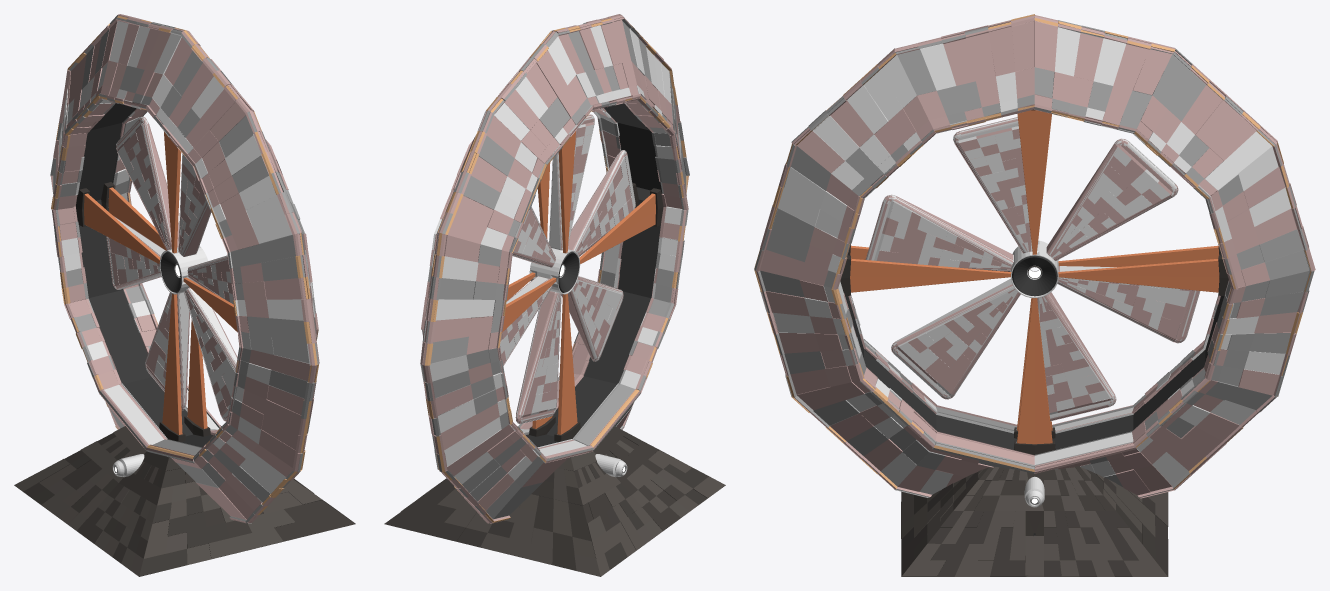
The model's file is WindMonument_old_240606 1.fbx.
3 views of the same model, side by side, from view 1: azimuth 30°, elevation 25°; view 2: azimuth 150°, elevation 25°; view 3: azimuth 270°, elevation 25° (orthographic). The views are drawn at different scales.
Visible parts, largest first — view 1: WindMonument_Frame, WindMonument_Base, WindMonument_Wheels, WindMonument_Socket, Train-Track; view 2: WindMonument_Frame, WindMonument_Base, WindMonument_Wheels, WindMonument_Socket, Train-Track; view 3: WindMonument_Frame, WindMonument_Wheels, WindMonument_Base, WindMonument_Socket.
Part boxes in pixels (x1,y1,x2,y2): WindMonument_Frame: [50, 14, 319, 523]; WindMonument_Base: [14, 425, 355, 576]; WindMonument_Wheels: [106, 116, 237, 421]; WindMonument_Socket: [76, 131, 237, 442]; Train-Track: [112, 454, 144, 477]; WindMonument_Frame: [420, 14, 689, 523]; WindMonument_Base: [384, 426, 725, 576]; WindMonument_Wheels: [500, 114, 635, 423]; WindMonument_Socket: [501, 131, 663, 442]; Train-Track: [595, 454, 627, 477]; WindMonument_Frame: [754, 14, 1315, 498]; WindMonument_Wheels: [865, 117, 1200, 421]; WindMonument_Base: [901, 466, 1168, 576]; WindMonument_Socket: [840, 109, 1228, 454].
Bounding box in the file's own units: 189 × 397 × 397.
